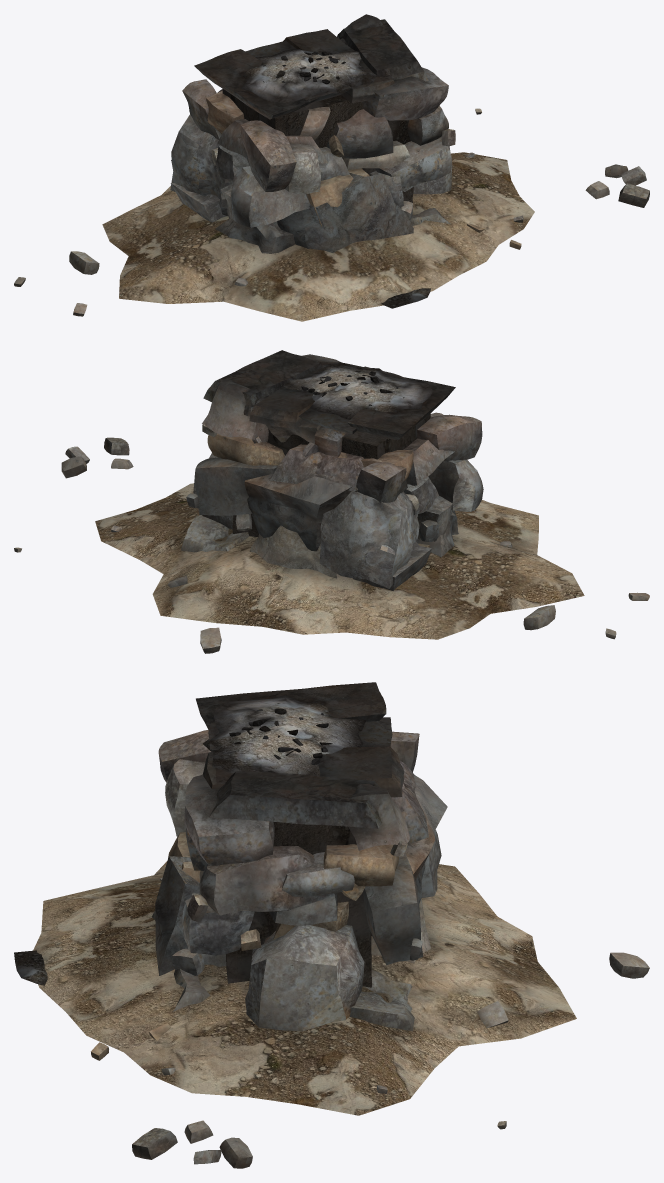
The model's file is altar_intact.glb.
The picture shows the model from 3 angles, top to bottom: view 1: azimuth 30°, elevation 25°; view 2: azimuth 150°, elevation 25°; view 3: azimuth 270°, elevation 25°; orthographic projection. The views are drawn at different scales.
Visible parts, largest first — view 1: altar_intact_stone, altar_intact_ash; view 2: altar_intact_stone, altar_intact_ash; view 3: altar_intact_ash, altar_intact_stone.
Part boxes in pixels (x1,y1,x2,y2): altar_intact_stone: (14,14,649,316); altar_intact_ash: (102,48,534,321); altar_intact_stone: (14,350,649,653); altar_intact_ash: (95,362,584,639); altar_intact_ash: (14,695,576,1115); altar_intact_stone: (91,682,649,1168).
Size of the model in its own units: 3.53 by 1.14 by 2.42.
Materials: 2 (2 with a texture image).
